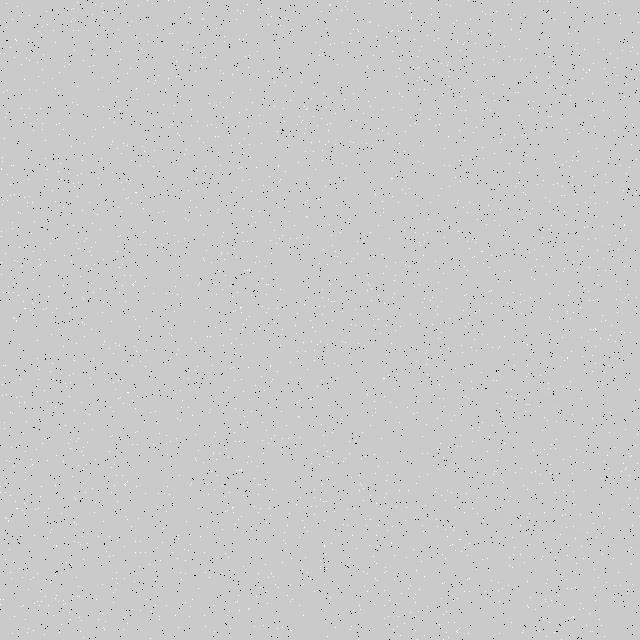drone: (403, 0, 640, 332), (403, 332, 640, 640)
